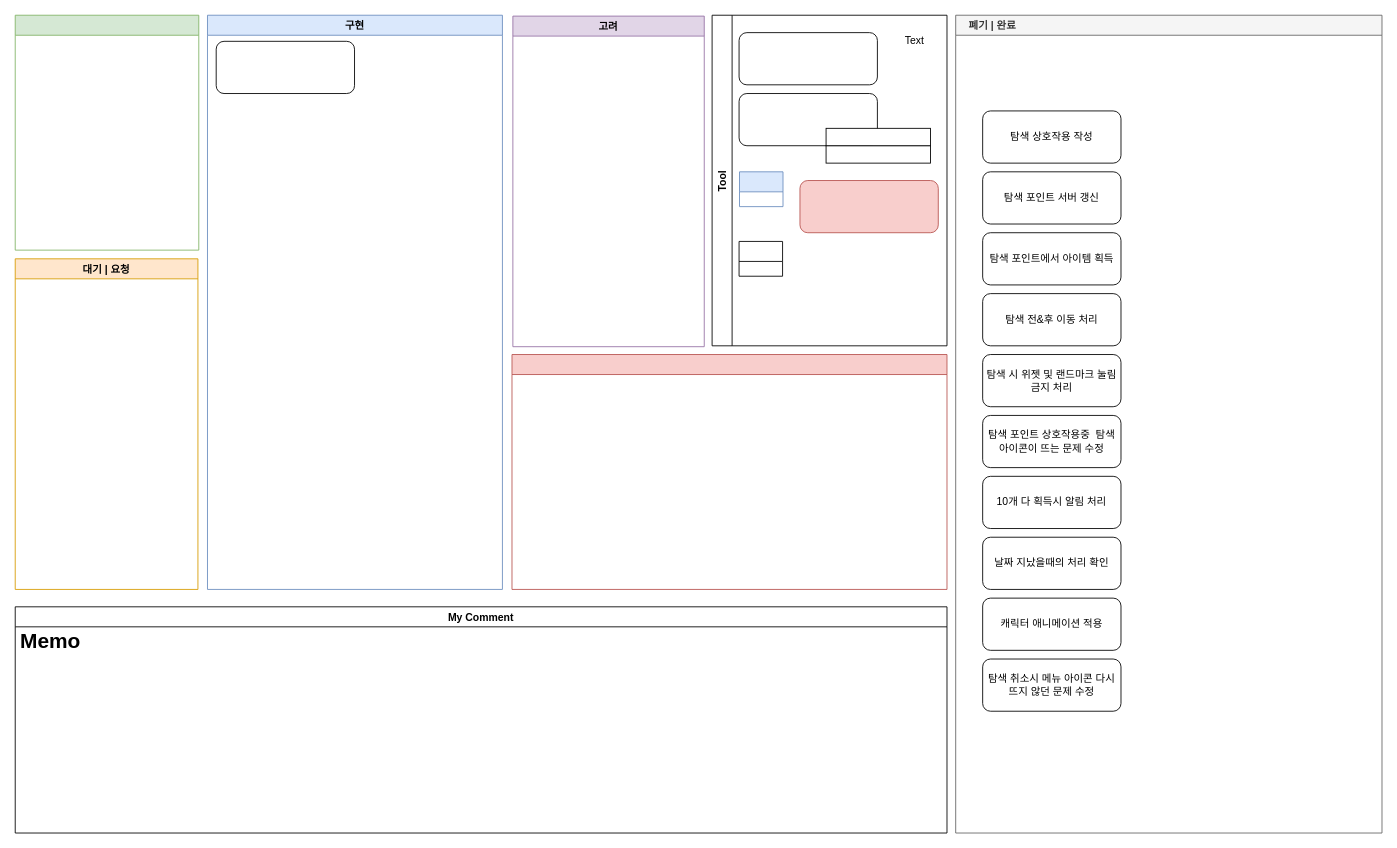
Image size: 1397x848. Some labels were removed from this diagram. The shapes that lost their labels are listed below. From the top down, each one's centre as x and y in pixels, then its label:
pixel 285 67: 탐색 랜드마크 작성
pixel 106 132: 분석 | 논의
pixel 729 471: 에러 | 수정
